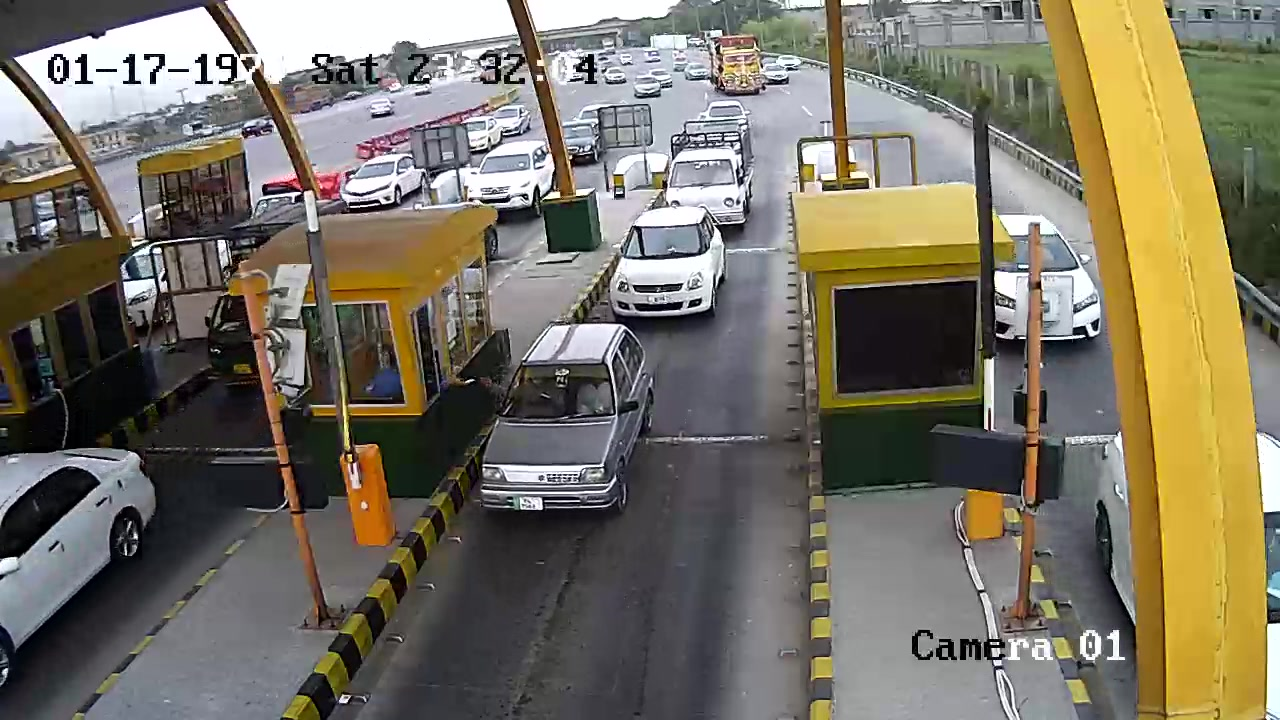F1: (480, 313, 661, 523)
